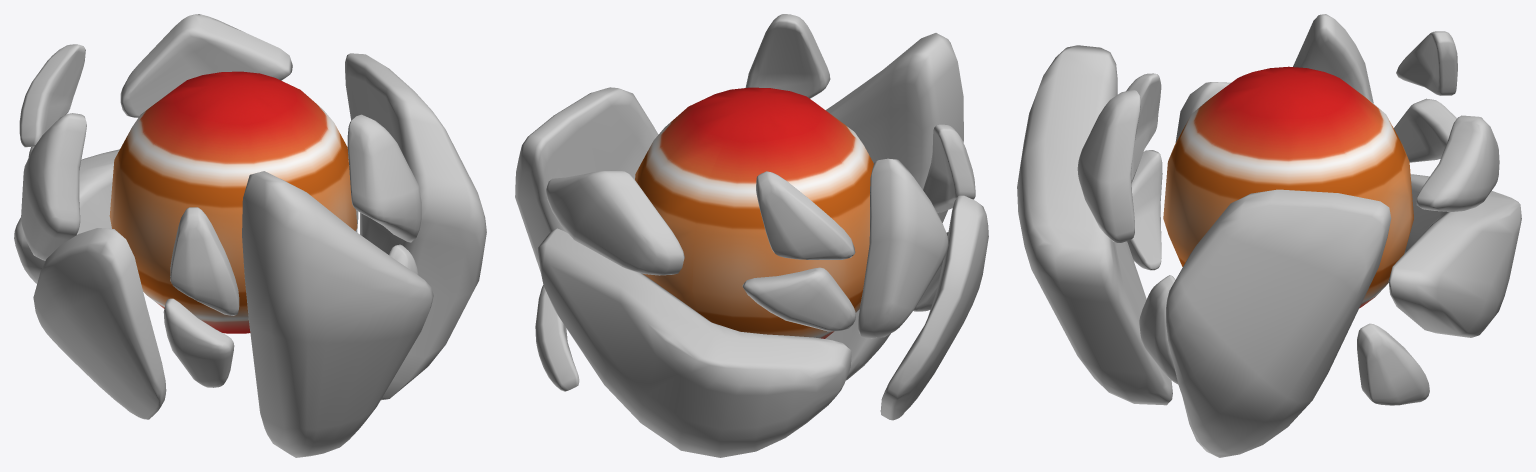
Rendered from broken_planet.fbx.
The picture shows the model from 3 angles, left to right: view 1: azimuth 30°, elevation 25°; view 2: azimuth 150°, elevation 25°; view 3: azimuth 270°, elevation 25°; orthographic projection. The views are drawn at different scales.
Parts seen in each view (by area): view 1: pSphere2; view 2: pSphere2; view 3: pSphere2.
Part boxes in pixels (left/top/right/bottom): pSphere2: left=14, top=14, right=486, bottom=457; pSphere2: left=515, top=14, right=988, bottom=457; pSphere2: left=1017, top=14, right=1521, bottom=457.
Size of the model in its own units: 2.3 by 1.8 by 2.47.
